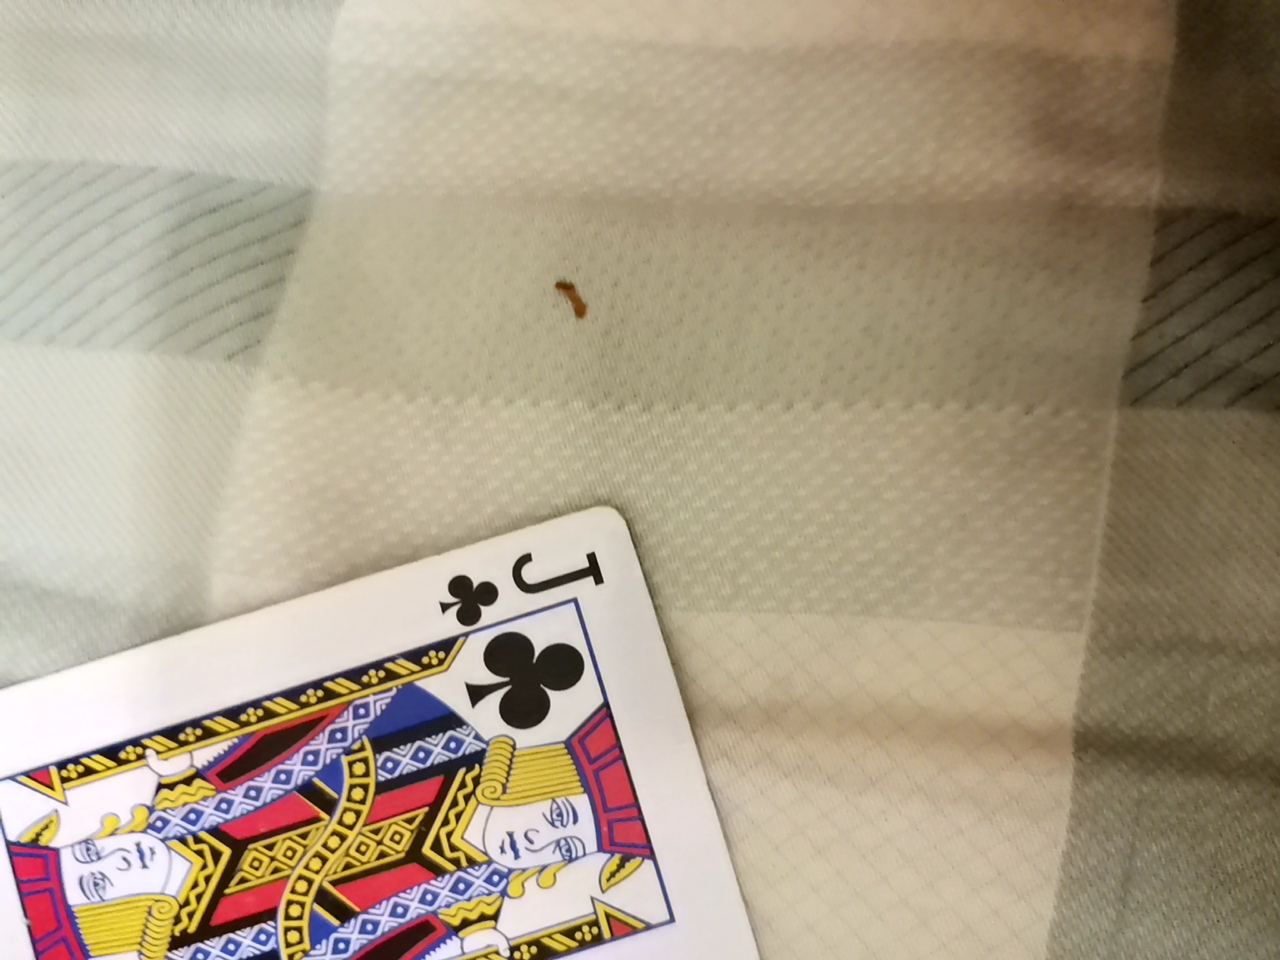mh j: (4, 509, 797, 957)
